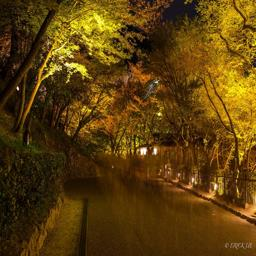Cuckoo: (142, 79, 160, 100)
